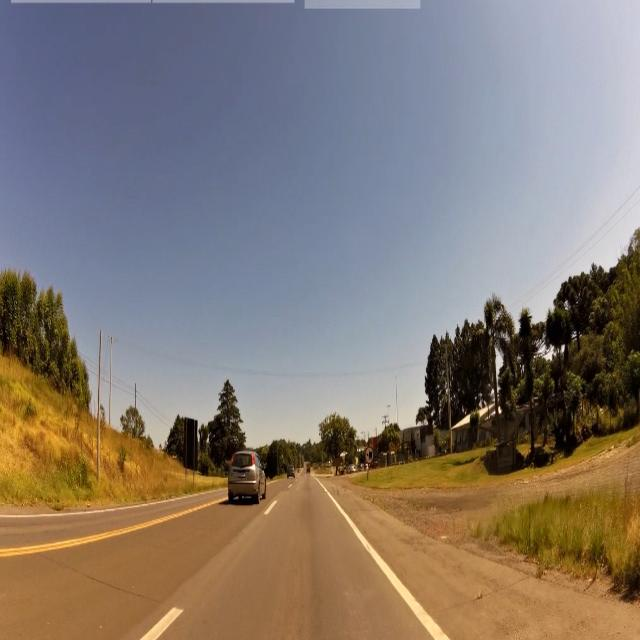R-27: (365, 445, 374, 466)
